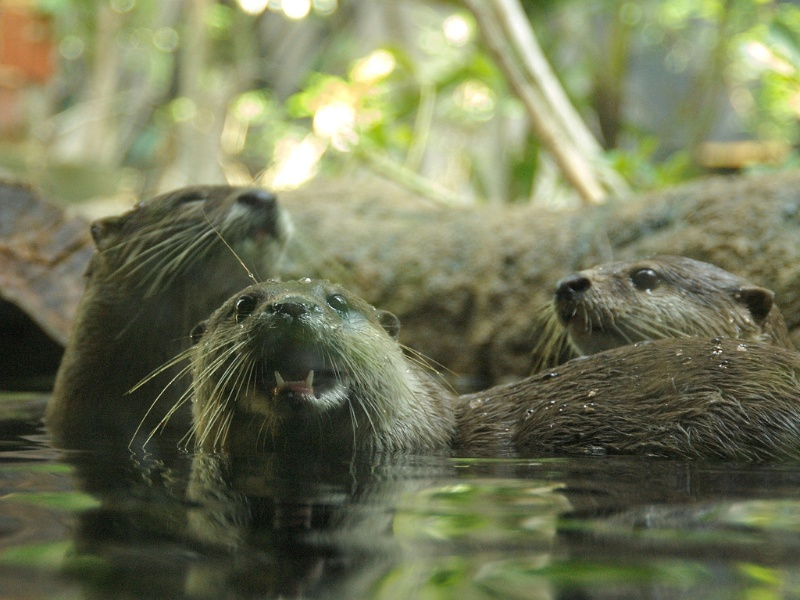minkish: (195, 282, 800, 507), (47, 175, 294, 426), (542, 248, 797, 376)
